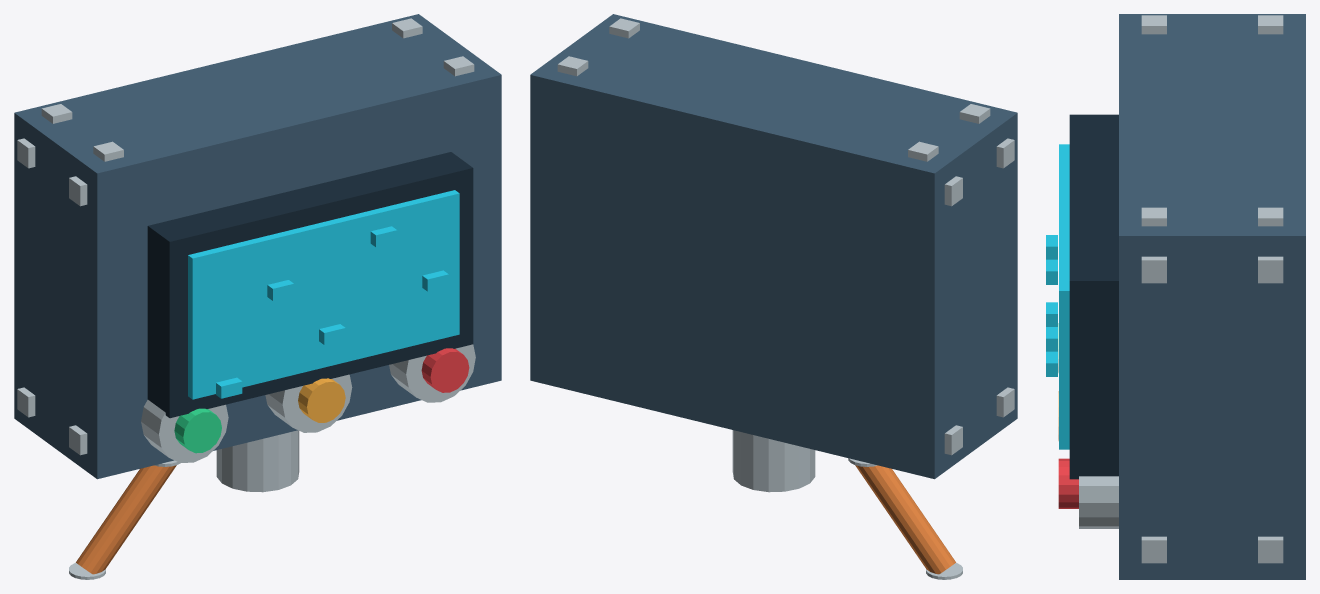
File: 48_L77_CopperResidueChemistryMonitor.fbx
3 renders of one model, left to right at view 1: azimuth 30°, elevation 25°; view 2: azimuth 150°, elevation 25°; view 3: azimuth 270°, elevation 25°, orthographic. The views are drawn at different scales.
Parts seen in each view (by area): view 1: CopperResidueChemistryMonitor; view 2: CopperResidueChemistryMonitor; view 3: CopperResidueChemistryMonitor.
Part boxes in pixels (x1,y1,x2,y2): CopperResidueChemistryMonitor: [14, 14, 501, 579]; CopperResidueChemistryMonitor: [530, 14, 1017, 579]; CopperResidueChemistryMonitor: [1046, 14, 1305, 579].
Size of the model in its own units: 54 by 55.59 by 25.82.
